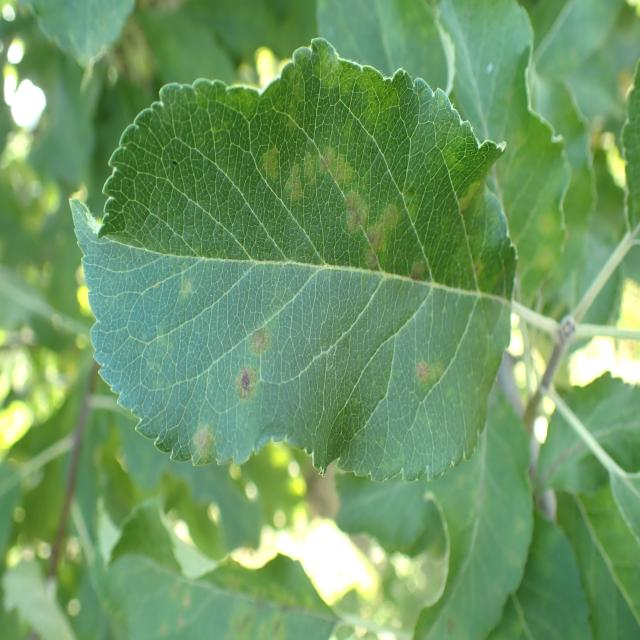scab: (98, 112, 503, 440)
